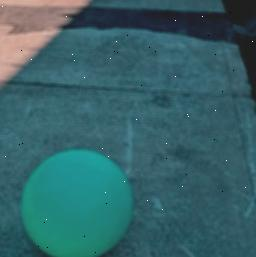algae: (18, 145, 135, 257)
